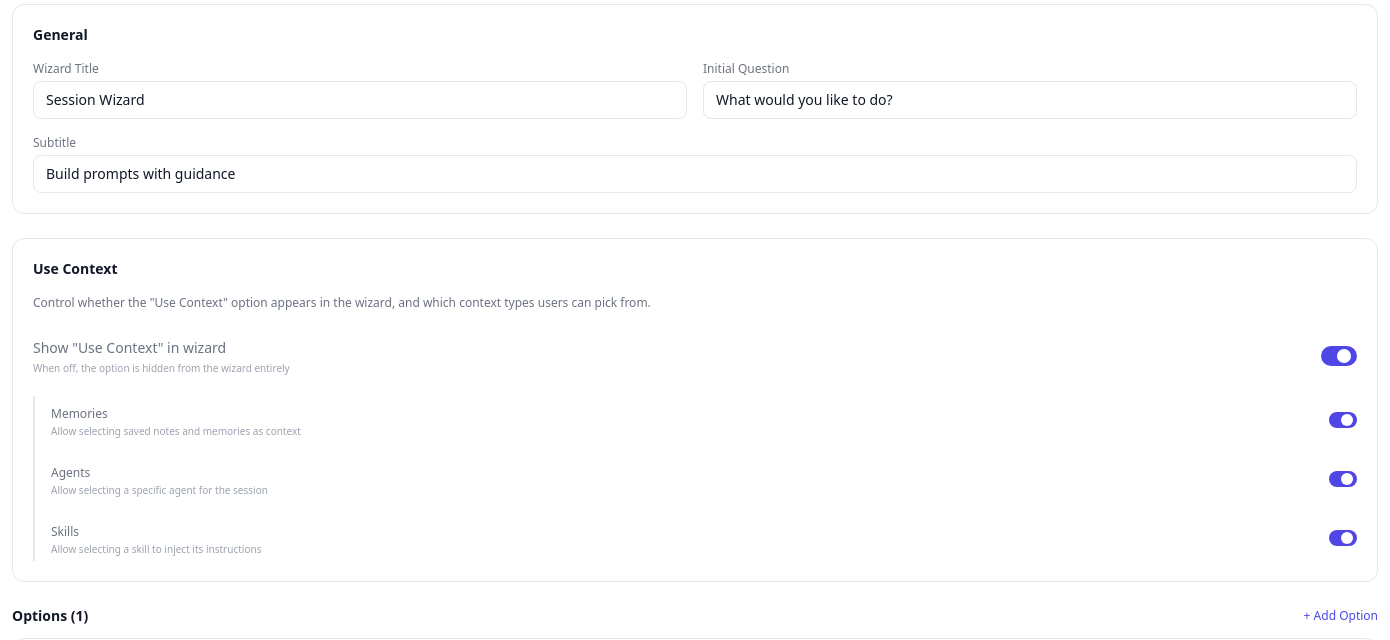
it: WizardSettings › adds a new option when + Add Option is clicked
Click the button "+ Add Option": (1341, 616) [1304, 608, 1378, 624]
(page scrolled)
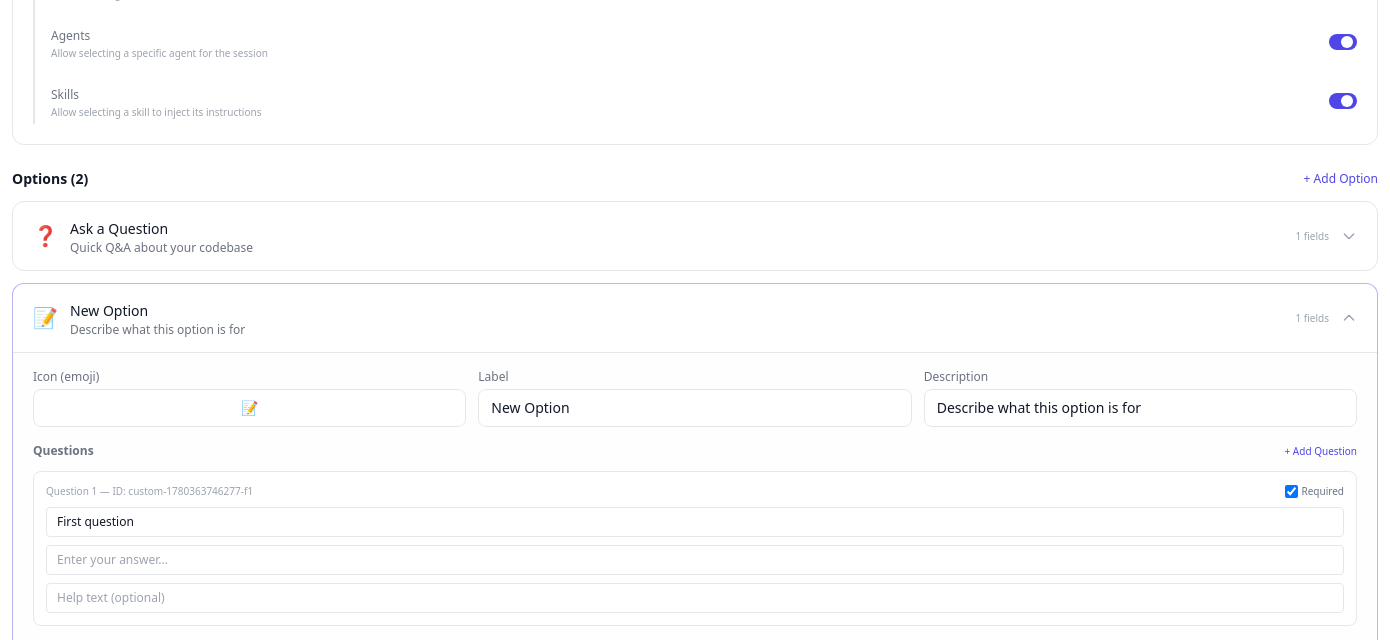
Expected: the text "New Option" is shown, [70, 301, 148, 320]
